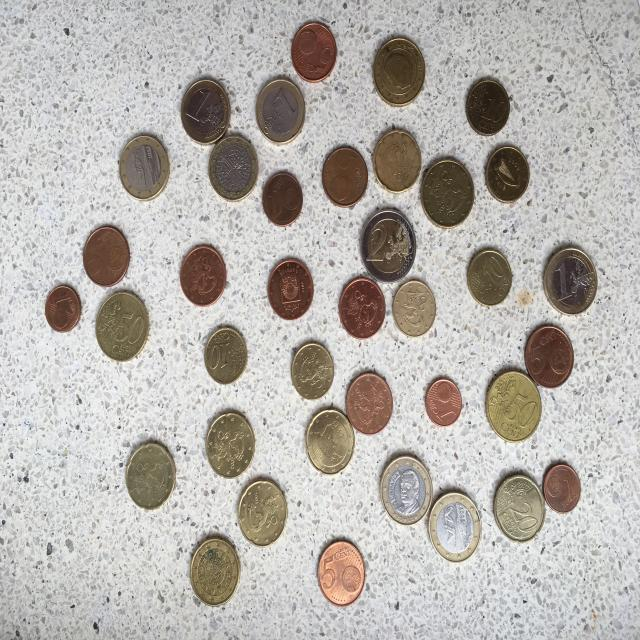10c: (466, 247, 514, 308), (465, 75, 512, 137), (202, 326, 250, 386), (289, 342, 336, 400), (486, 144, 530, 203), (392, 280, 438, 336)
1c: (262, 167, 304, 227), (542, 460, 586, 514), (422, 374, 466, 427), (43, 282, 85, 334)
1e: (542, 244, 600, 318), (426, 492, 482, 564), (117, 131, 172, 203), (380, 454, 434, 526), (208, 134, 261, 202), (256, 75, 306, 144), (180, 80, 233, 144)
20c: (370, 35, 428, 109), (124, 441, 178, 512), (493, 472, 546, 543), (190, 536, 243, 606), (236, 478, 288, 548), (303, 407, 356, 475), (206, 410, 256, 480), (371, 130, 424, 196)
2e: (358, 208, 418, 282)
50c: (486, 368, 544, 443), (94, 290, 152, 364), (420, 157, 476, 228), (290, 22, 340, 82)
5c: (315, 540, 368, 606), (524, 322, 574, 390), (82, 225, 132, 289), (320, 144, 370, 208), (346, 372, 394, 438), (178, 245, 228, 308), (267, 258, 315, 320), (338, 278, 386, 340)
